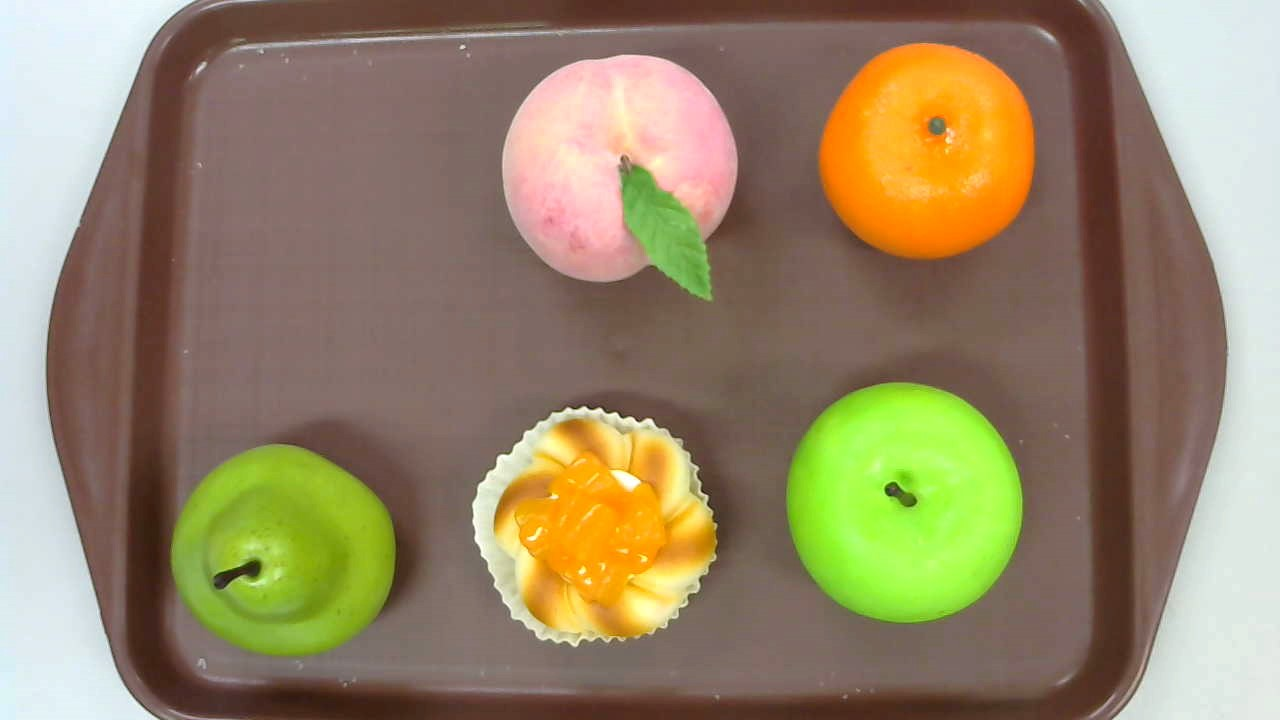green apple: (785, 382, 1023, 623)
green pear: (171, 442, 395, 657)
mango tart: (470, 406, 719, 649)
orange: (817, 43, 1035, 262)
peach: (502, 53, 740, 303)
